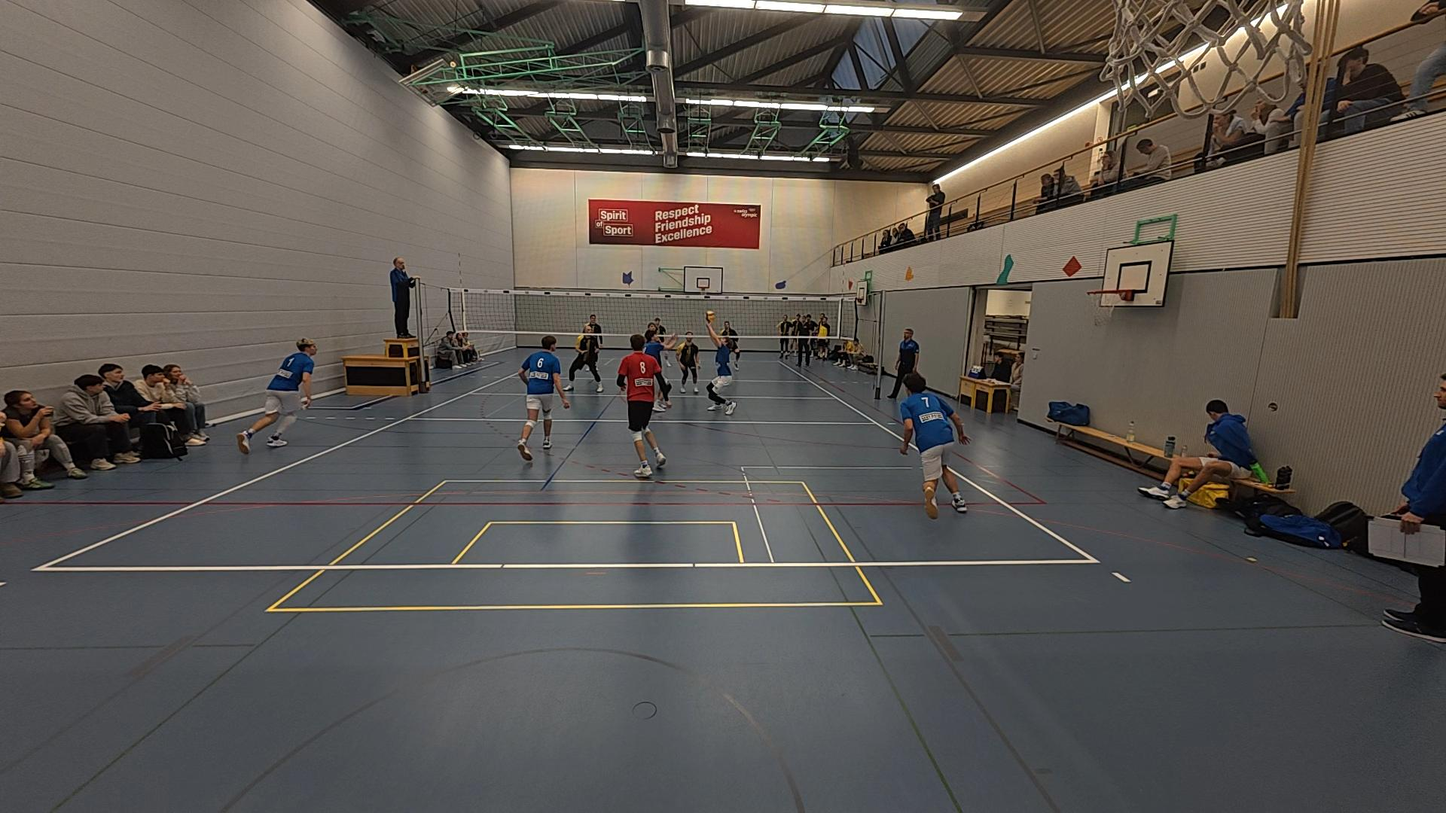Player: (900, 371, 971, 516), (238, 339, 317, 453), (614, 333, 667, 480), (517, 336, 568, 461), (560, 317, 604, 394), (641, 324, 675, 412), (669, 329, 703, 400), (579, 309, 604, 373), (644, 313, 672, 367), (713, 318, 742, 370)
Set: (701, 310, 738, 416)
ball: (902, 265, 917, 280), (703, 309, 716, 321)
